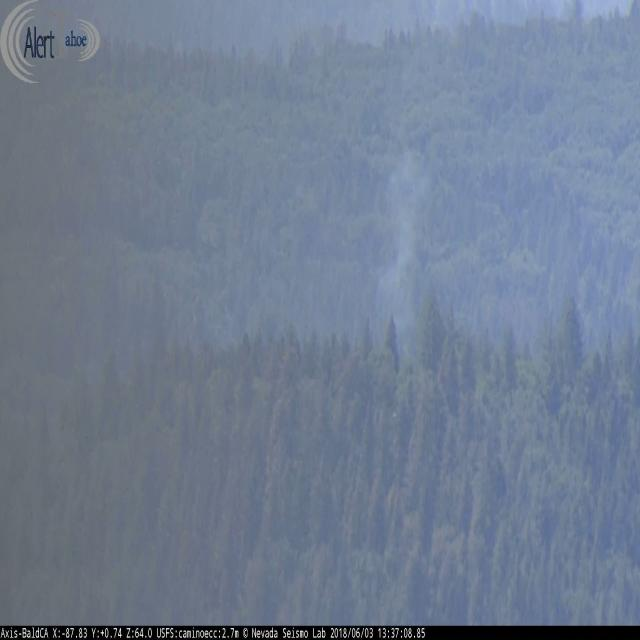smoke: (381, 166, 418, 344)
